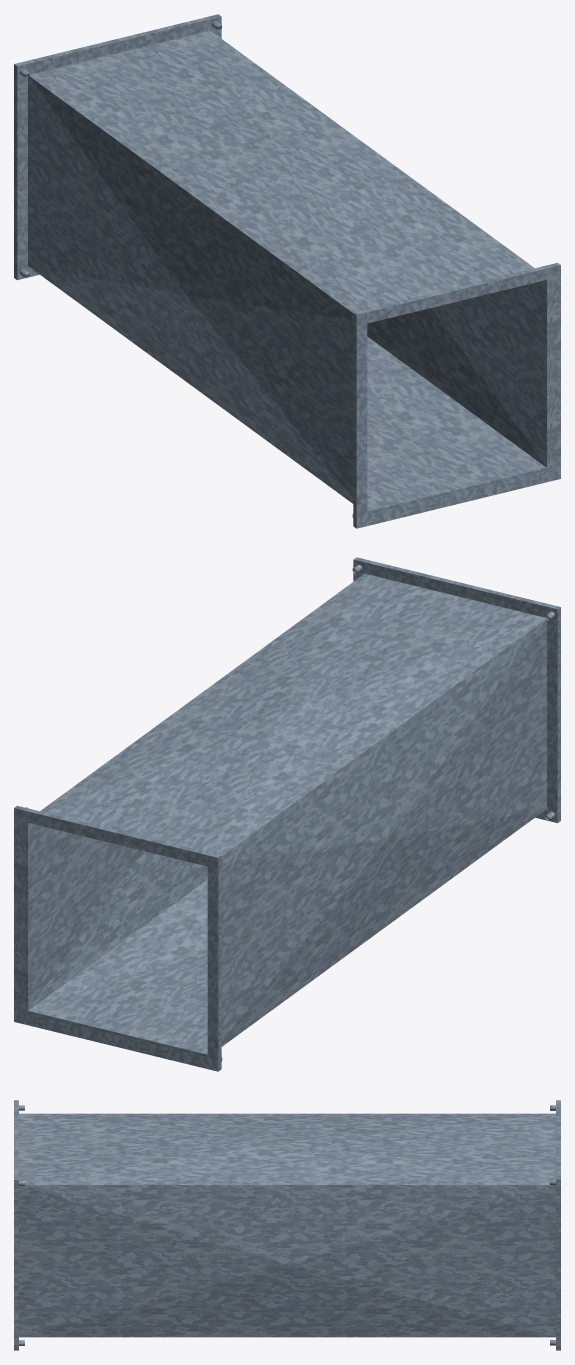
File: Ventilacao.fbx
3 renders of one model, top to bottom at view 1: azimuth 30°, elevation 25°; view 2: azimuth 150°, elevation 25°; view 3: azimuth 270°, elevation 25°, orthographic. The views are drawn at different scales.
Parts seen in each view (by area): view 1: Lueftungskanal; view 2: Lueftungskanal; view 3: Lueftungskanal.
Part boxes in pixels (<box>): Lueftungskanal: <box>14,14,560,528</box>; Lueftungskanal: <box>14,557,560,1071</box>; Lueftungskanal: <box>14,1100,560,1350</box>.
Size of the model in its own units: 87.97 by 87.97 by 255.
Materials: 1 (1 with a texture image).
